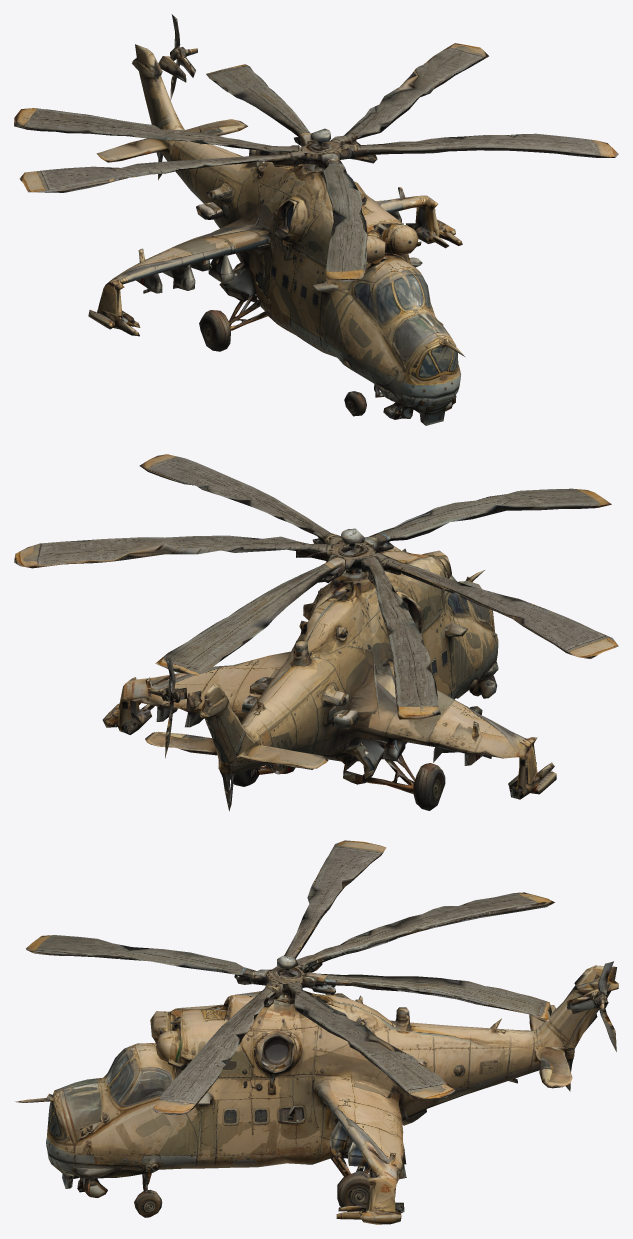
Rendered from Vehicle_Mi24.fbx.
3 views of the same model, one above another, from view 1: azimuth 30°, elevation 25°; view 2: azimuth 150°, elevation 25°; view 3: azimuth 270°, elevation 25° (orthographic). The views are drawn at different scales.
Parts seen in each view (by area): view 1: texture_mapping; view 2: texture_mapping; view 3: texture_mapping.
Part boxes in pixels (x1,y1,x2,y2): texture_mapping: (14,14,618,425); texture_mapping: (14,454,618,811); texture_mapping: (15,840,618,1224).
Bounding box in the file's own units: 0.9626 × 0.9651 × 0.4165.
1 material, 1 textured.
